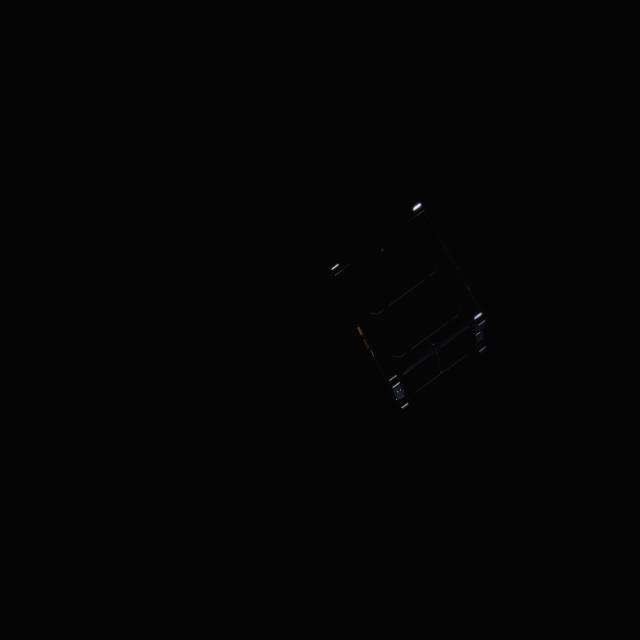satellite: (324, 200, 502, 411)
